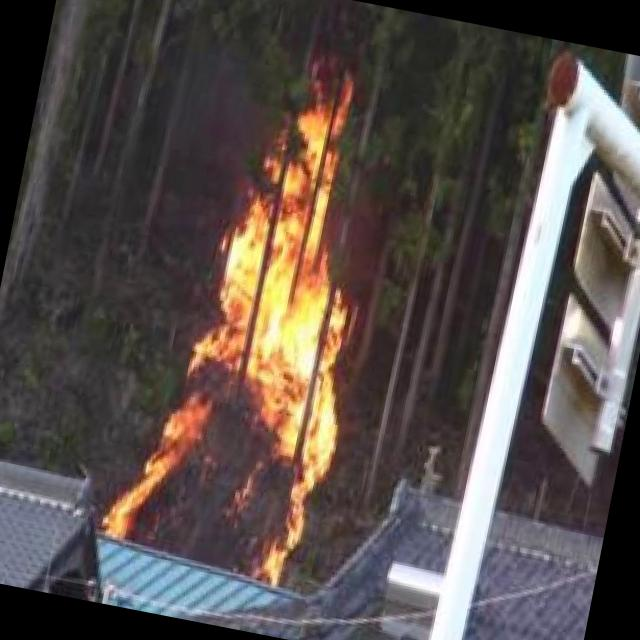Fire: (110, 32, 402, 584)
